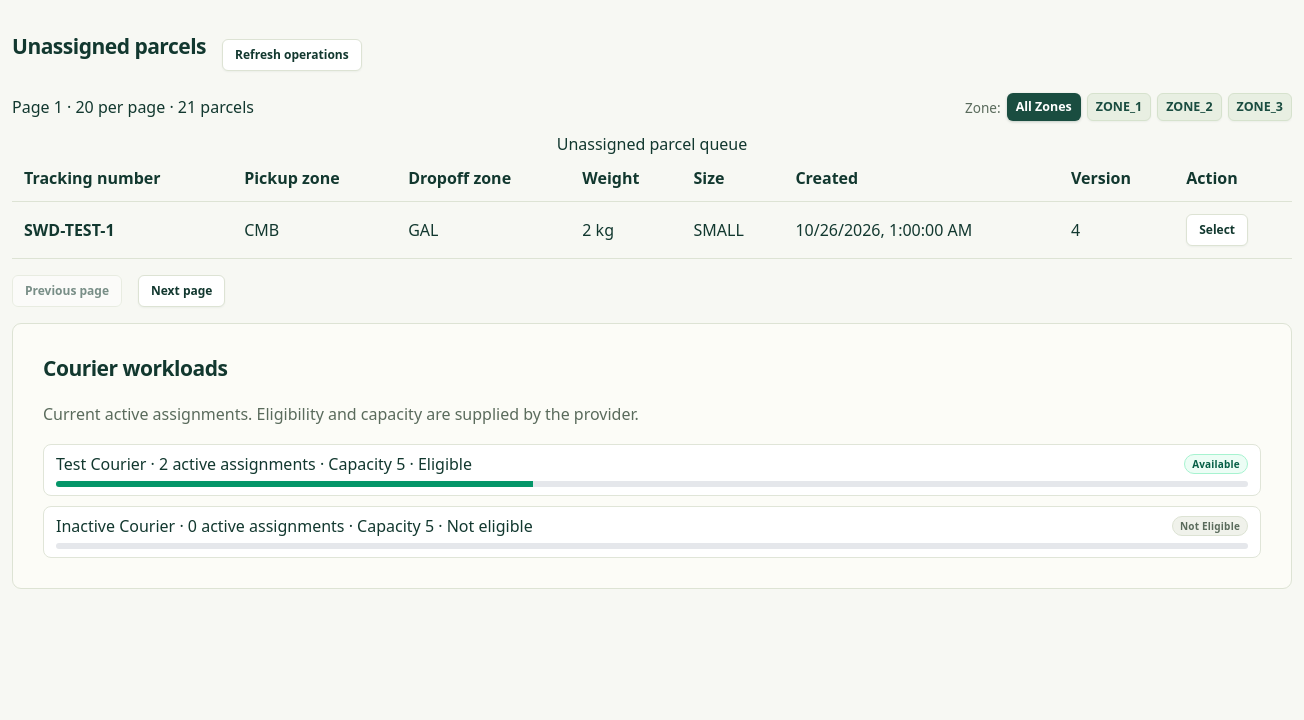
Dispatcher operations › clears selection and refreshes after command rejection 409
Click the button with aria-label "Select SWD-TEST-1" at [1217, 230], box [1186, 214, 1248, 246]
(page scrolled)
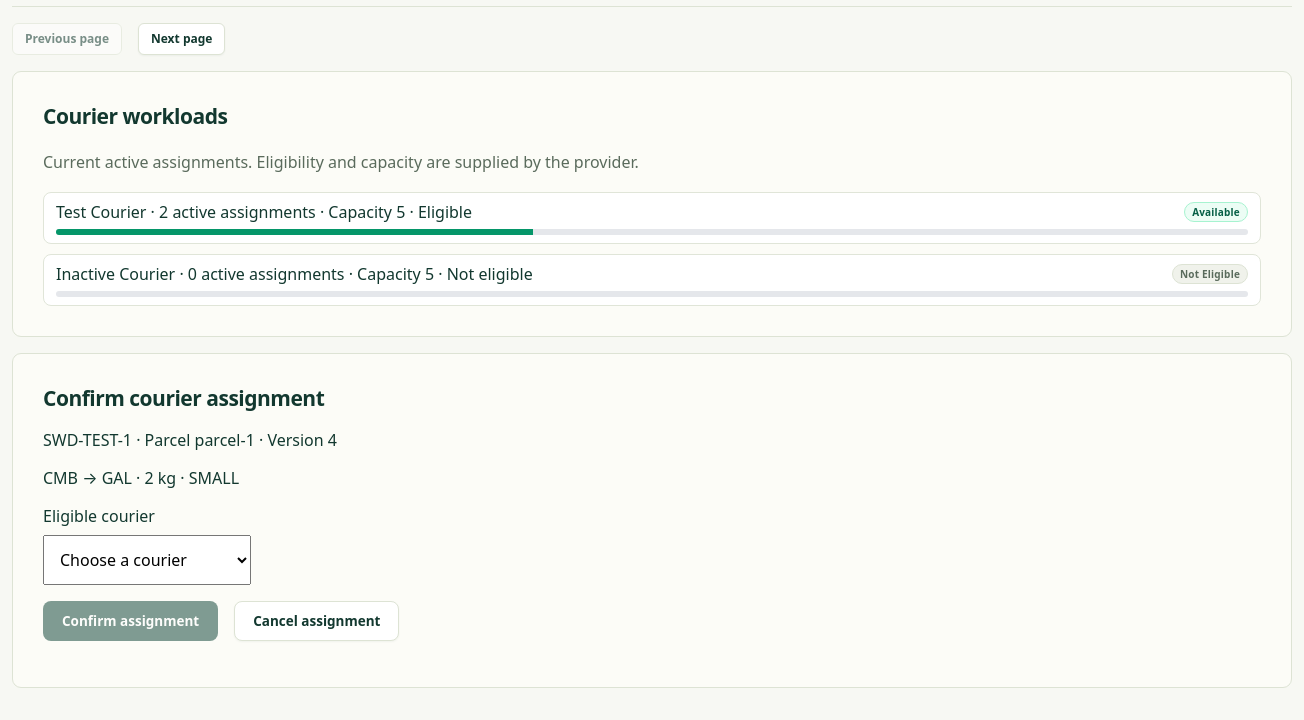
Select "Test Courier (2 active)" in the dropdown labelled "Eligible courier" at [147, 560], box [43, 535, 251, 585]
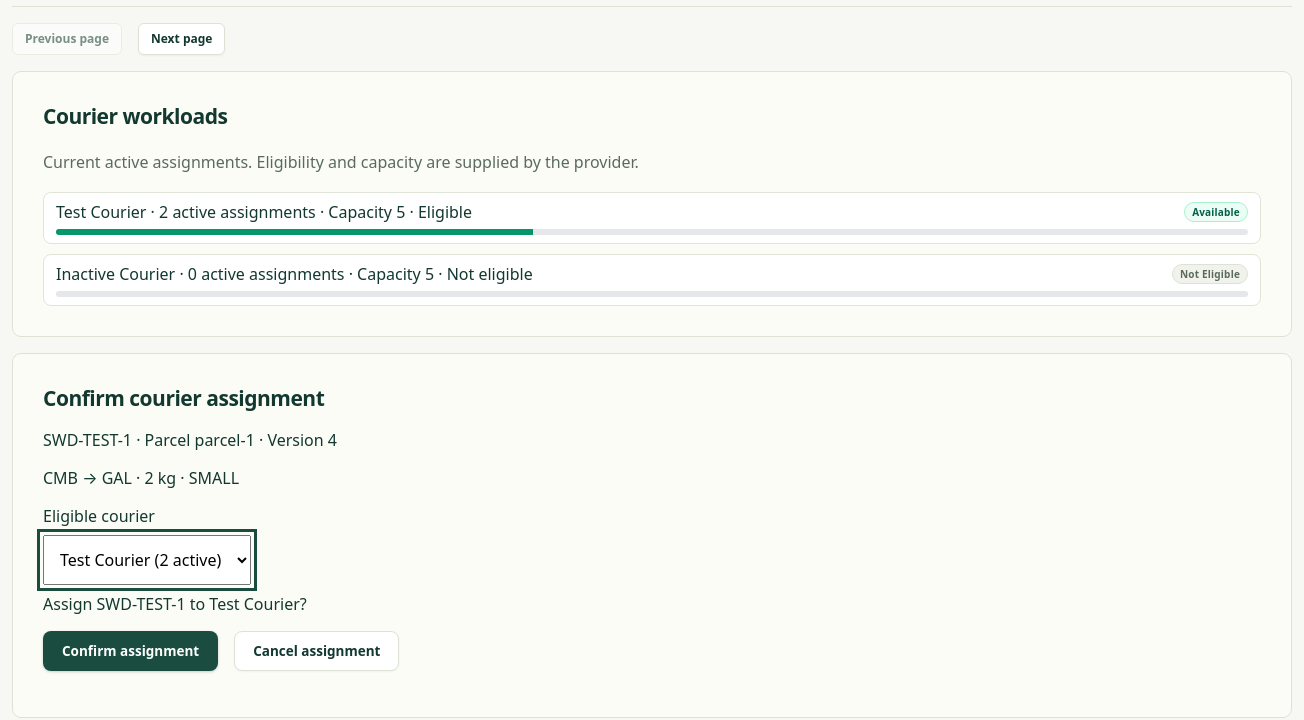
Click the button "Confirm assignment" at [131, 651], box [43, 631, 218, 671]
(page scrolled)
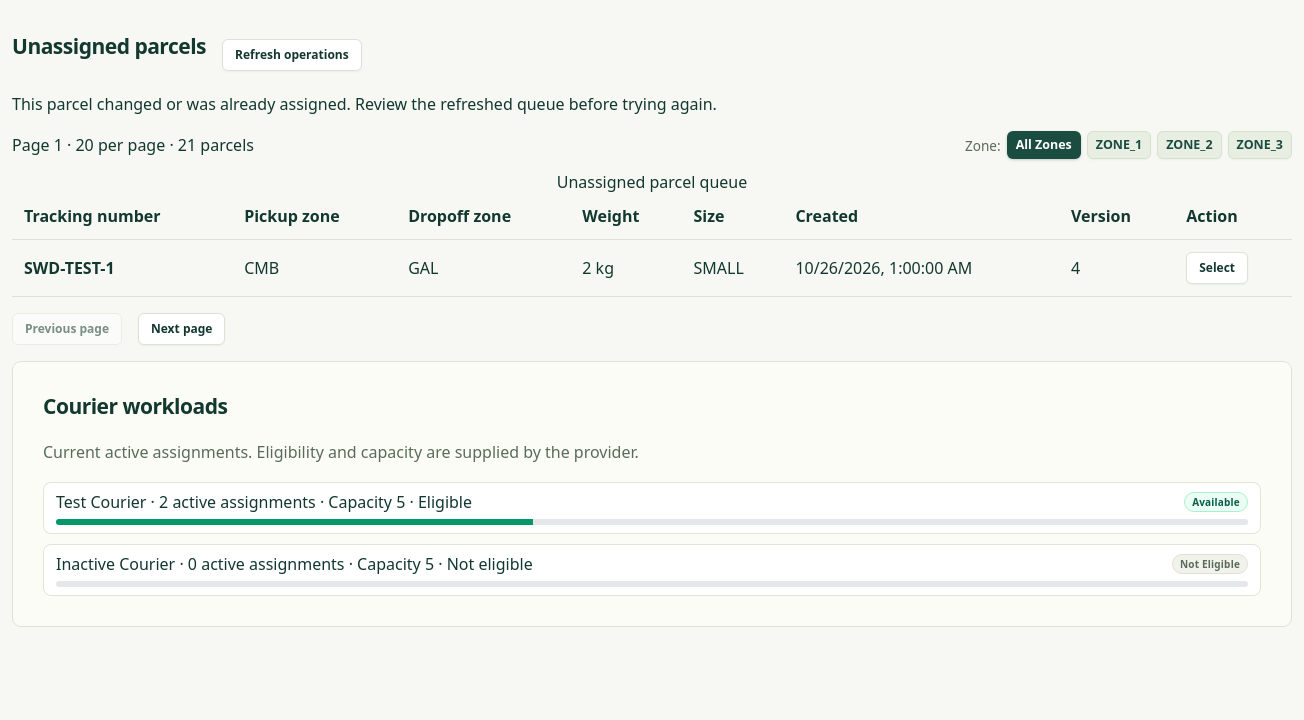
Result: the heading "Confirm courier assignment" is gone
Result: the message shows "already assigned" at [12, 93, 717, 115]
